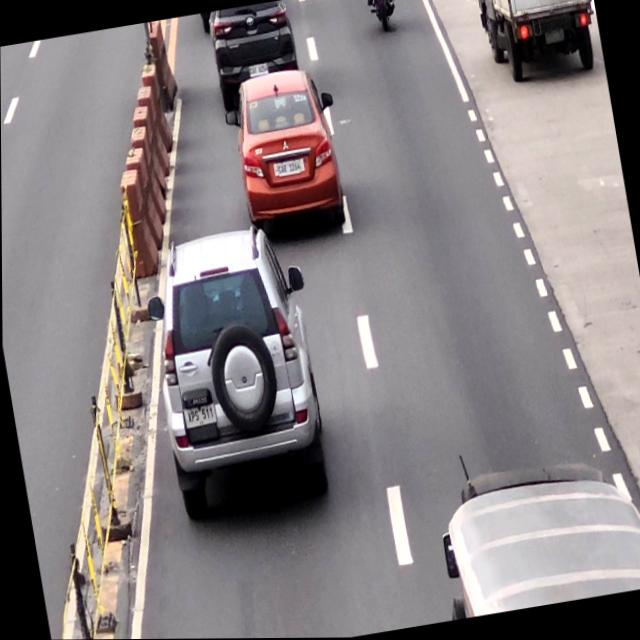Car: (146, 220, 331, 503), (230, 69, 347, 239)
Jeep: (436, 458, 640, 619)
License-Plate: (180, 397, 218, 427), (274, 158, 302, 176), (249, 64, 270, 79)
Truck: (477, 0, 605, 83)
